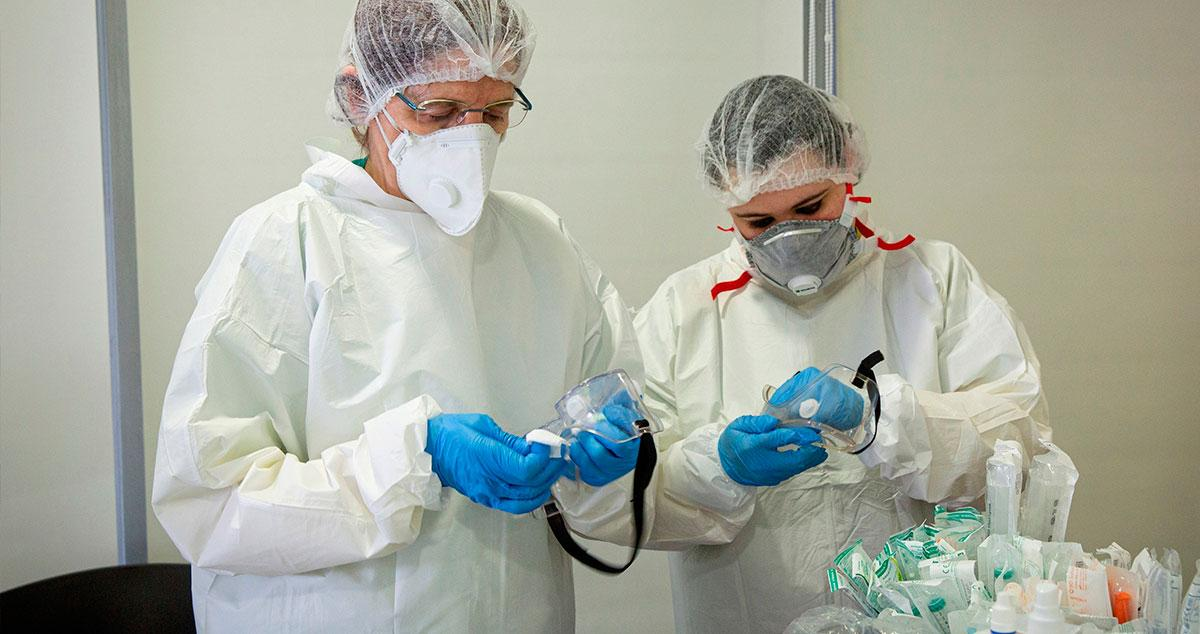with_mask: (331, 14, 546, 248), (691, 93, 906, 307)
